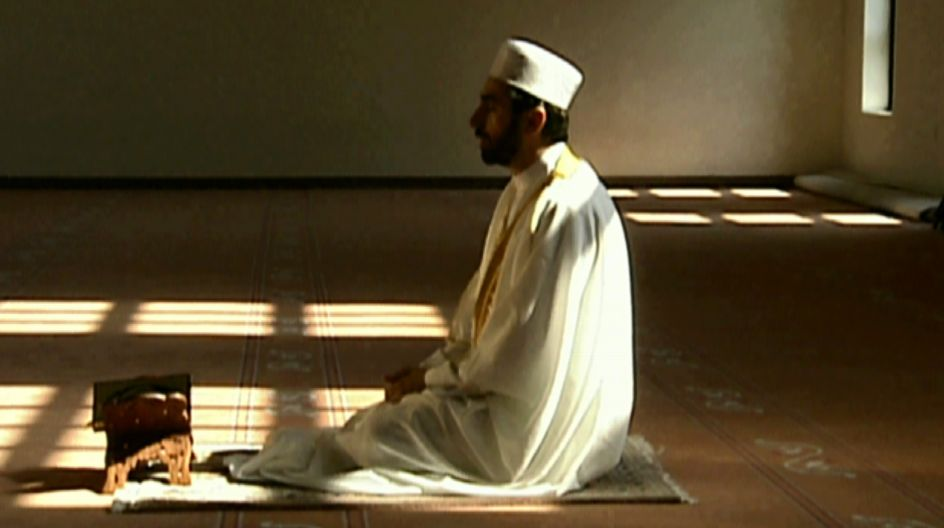sitting: (337, 38, 637, 495)
